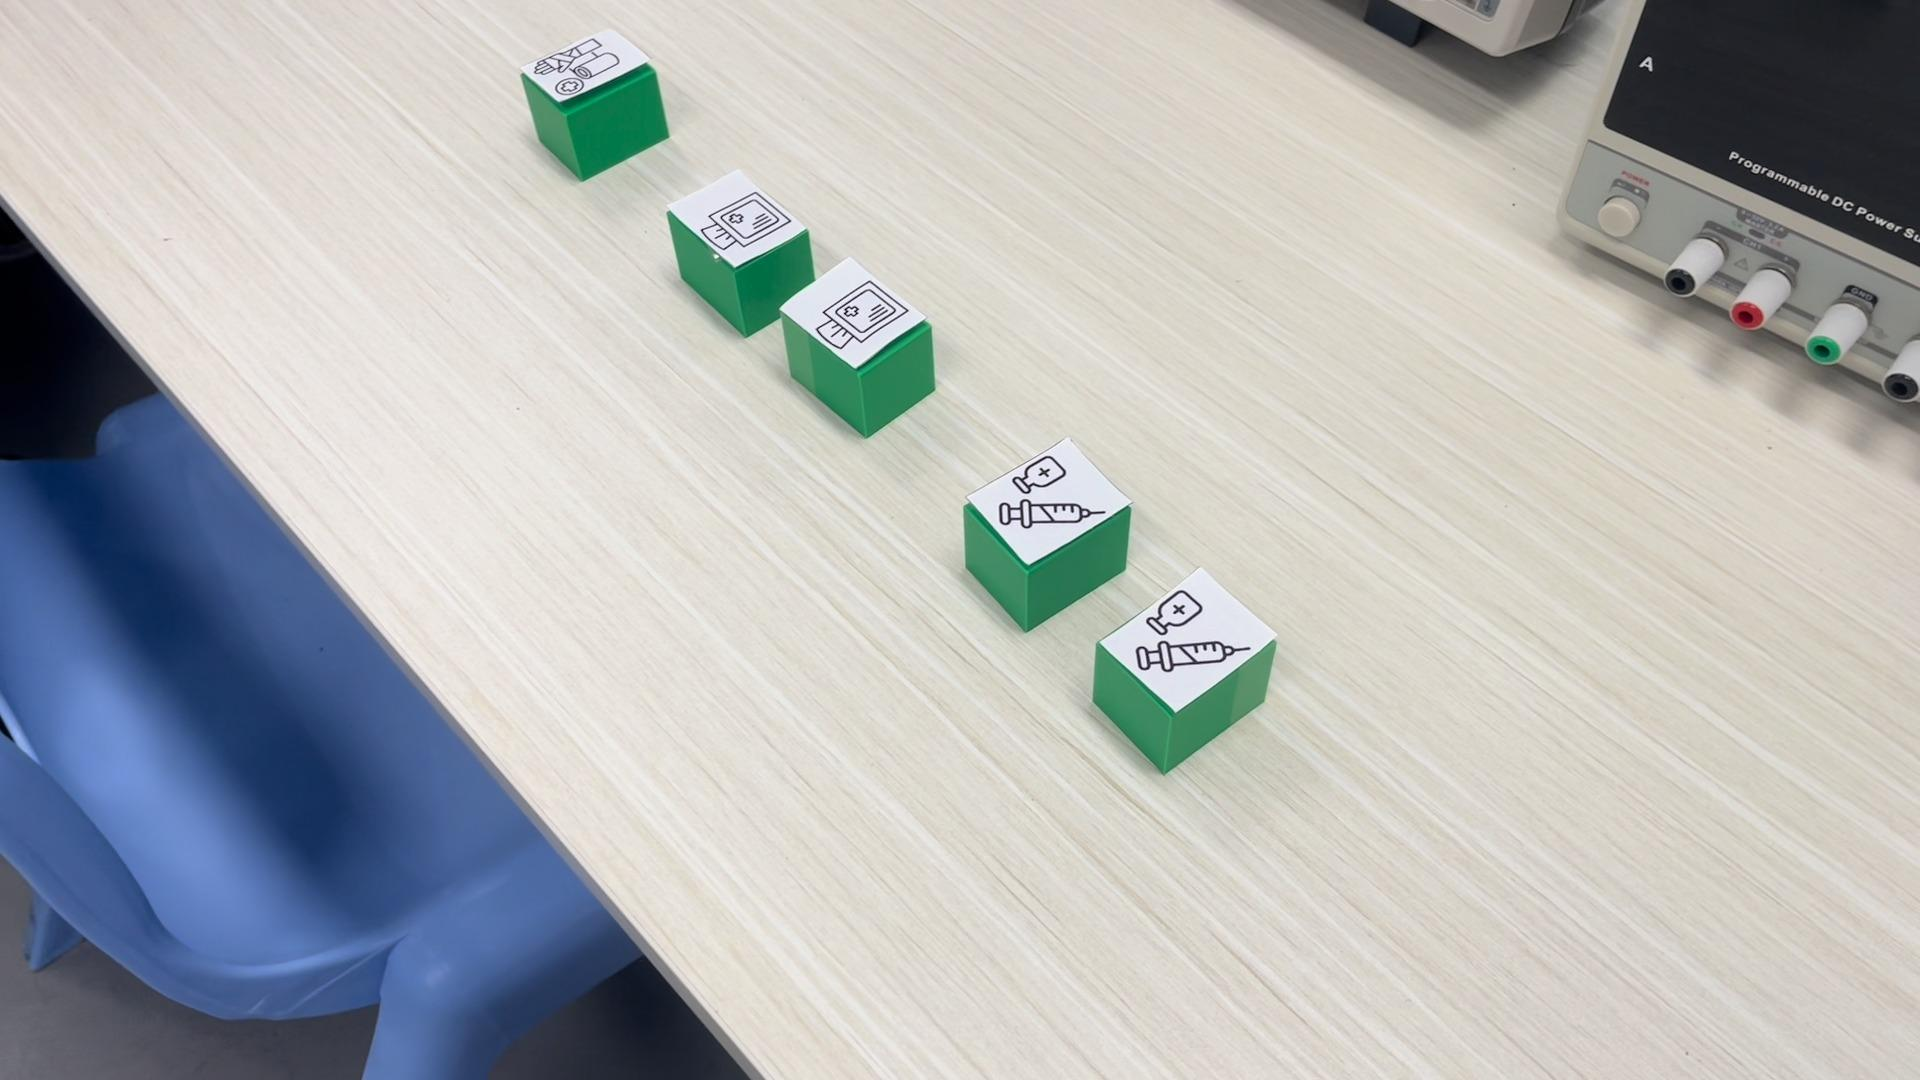Bandages: (520, 25, 671, 180)
Gauze: (777, 257, 936, 437), (664, 165, 816, 337)
antiseptic cream: (1090, 566, 1280, 772), (960, 434, 1132, 631)
